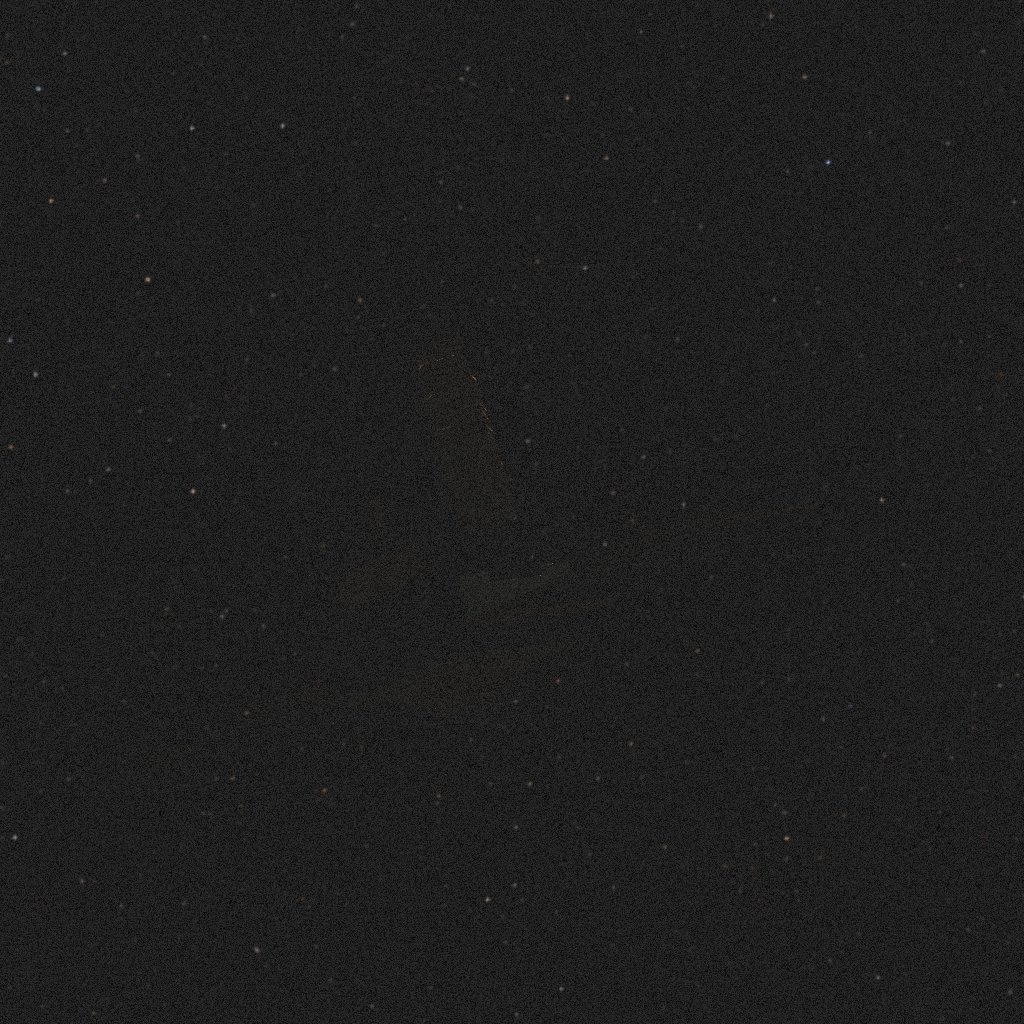soho: (116, 337, 819, 782)
